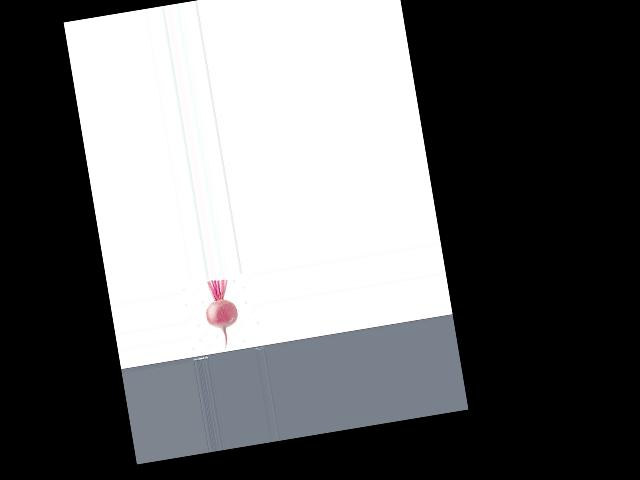beet: (201, 277, 243, 352)
